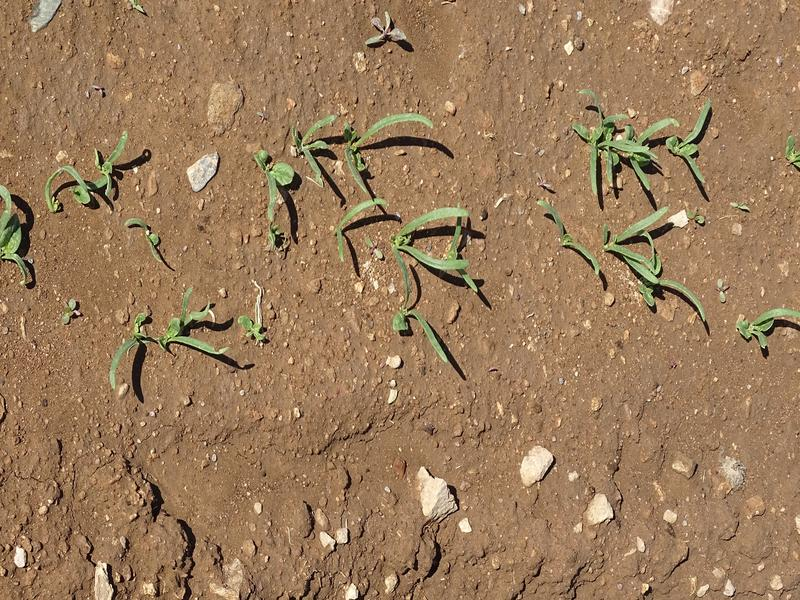Espinaca: (270, 98, 483, 293), (552, 97, 712, 323), (112, 291, 229, 396), (46, 137, 131, 208), (388, 303, 465, 370), (736, 306, 800, 357), (1, 182, 30, 279)
